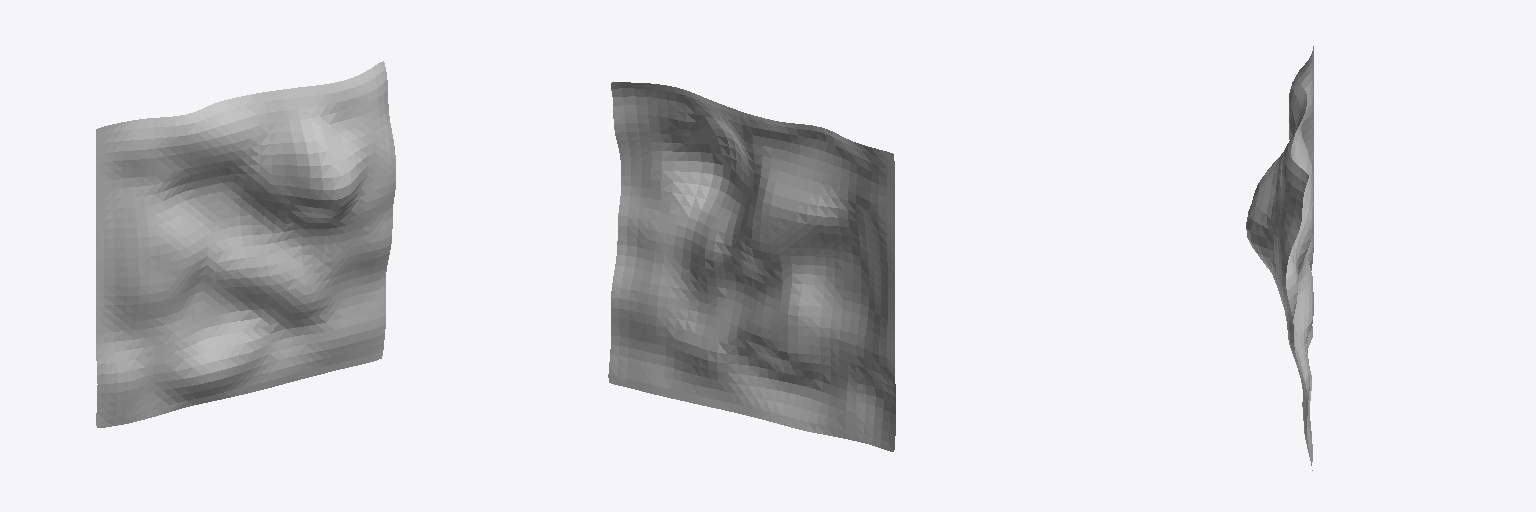
File: Curvy.obj
The picture shows the model from 3 angles: view 1: azimuth 30°, elevation 25°; view 2: azimuth 150°, elevation 25°; view 3: azimuth 270°, elevation 25°; orthographic projection.
Visible parts, largest first — view 1: Plane; view 2: Plane; view 3: Plane.
Boxes of the visible parts, x1=… form: Plane: x1=96, y1=61, x2=395, y2=427; Plane: x1=608, y1=82, x2=895, y2=451; Plane: x1=1246, y1=46, x2=1313, y2=470.
Size of the model in its own units: 5.92 by 5.92 by 1.21.